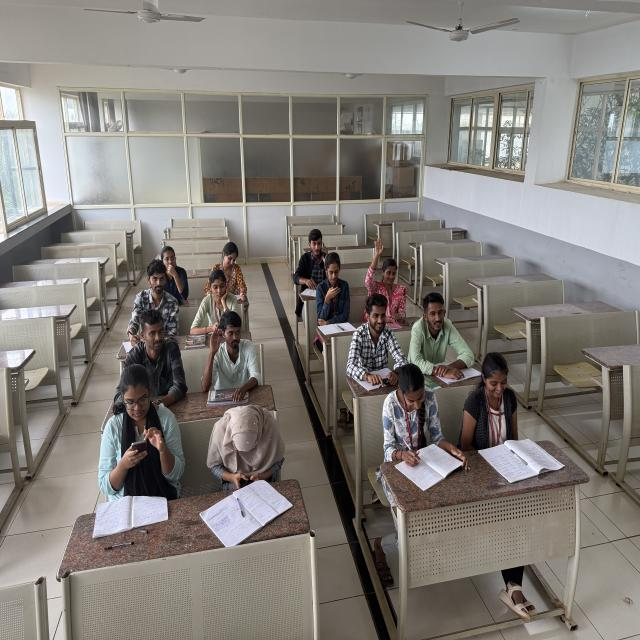Hand Rising: (201, 312, 264, 398), (363, 236, 410, 305)
Reading: (455, 346, 534, 451)
Using Phone: (91, 358, 186, 501), (208, 396, 288, 487), (288, 223, 336, 288), (192, 268, 235, 339), (314, 252, 355, 316)
Writing: (375, 358, 456, 468)
